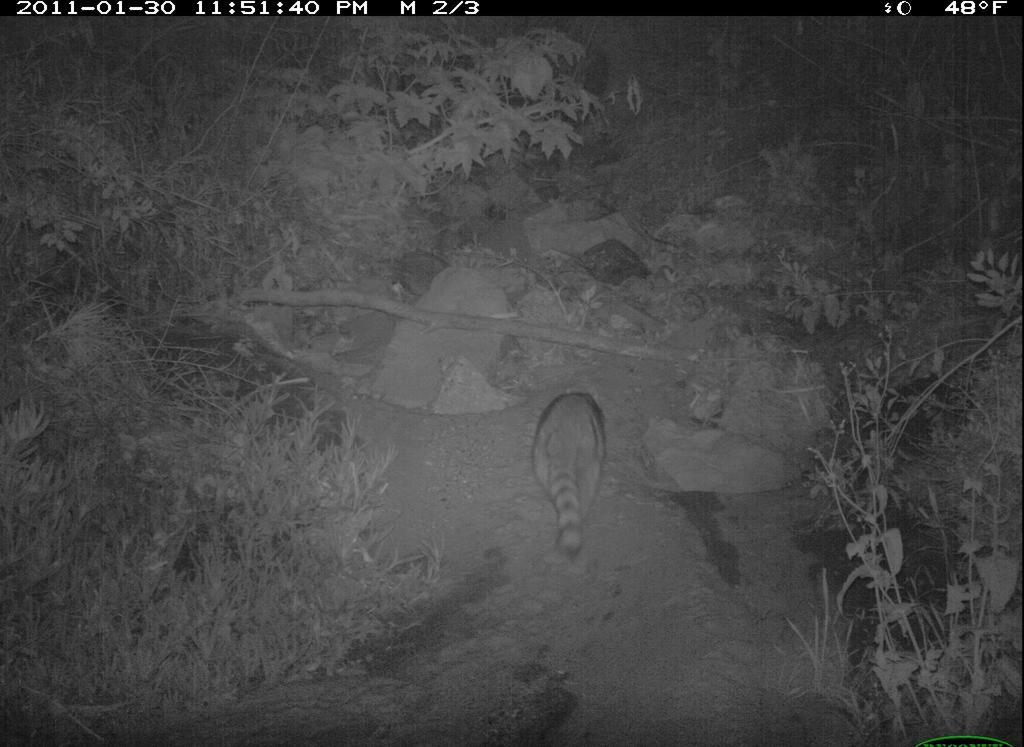raccoon: (526, 378, 622, 578)
